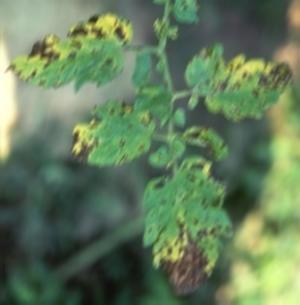Tomato Septoria leaf spot: (130, 159, 232, 295), (0, 13, 138, 91), (177, 39, 298, 126), (56, 103, 163, 167), (180, 120, 231, 162)
